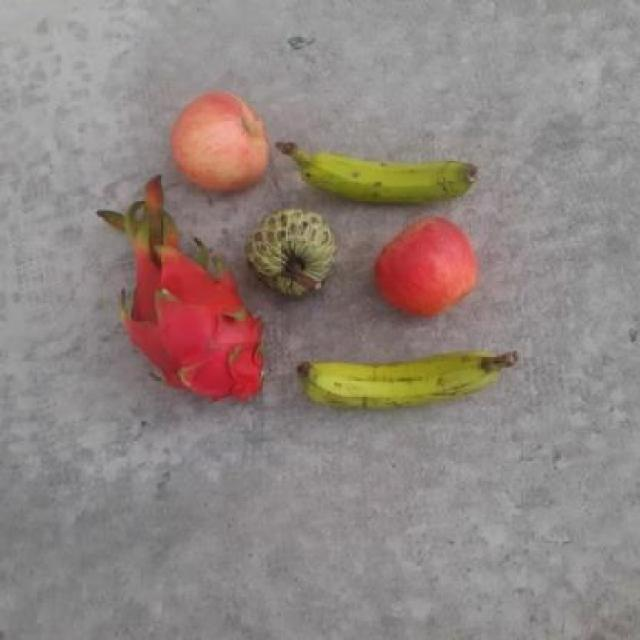apple: (371, 218, 482, 320), (173, 91, 278, 191)
banana: (297, 340, 495, 414), (296, 143, 486, 211)
dragon fruit: (124, 256, 270, 409)
sugar apple: (245, 210, 340, 299)
